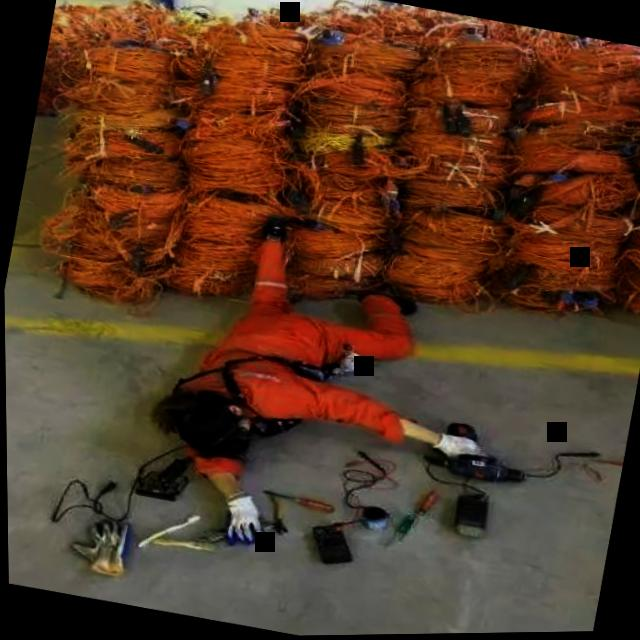Fall-Detected: (117, 204, 540, 598)
